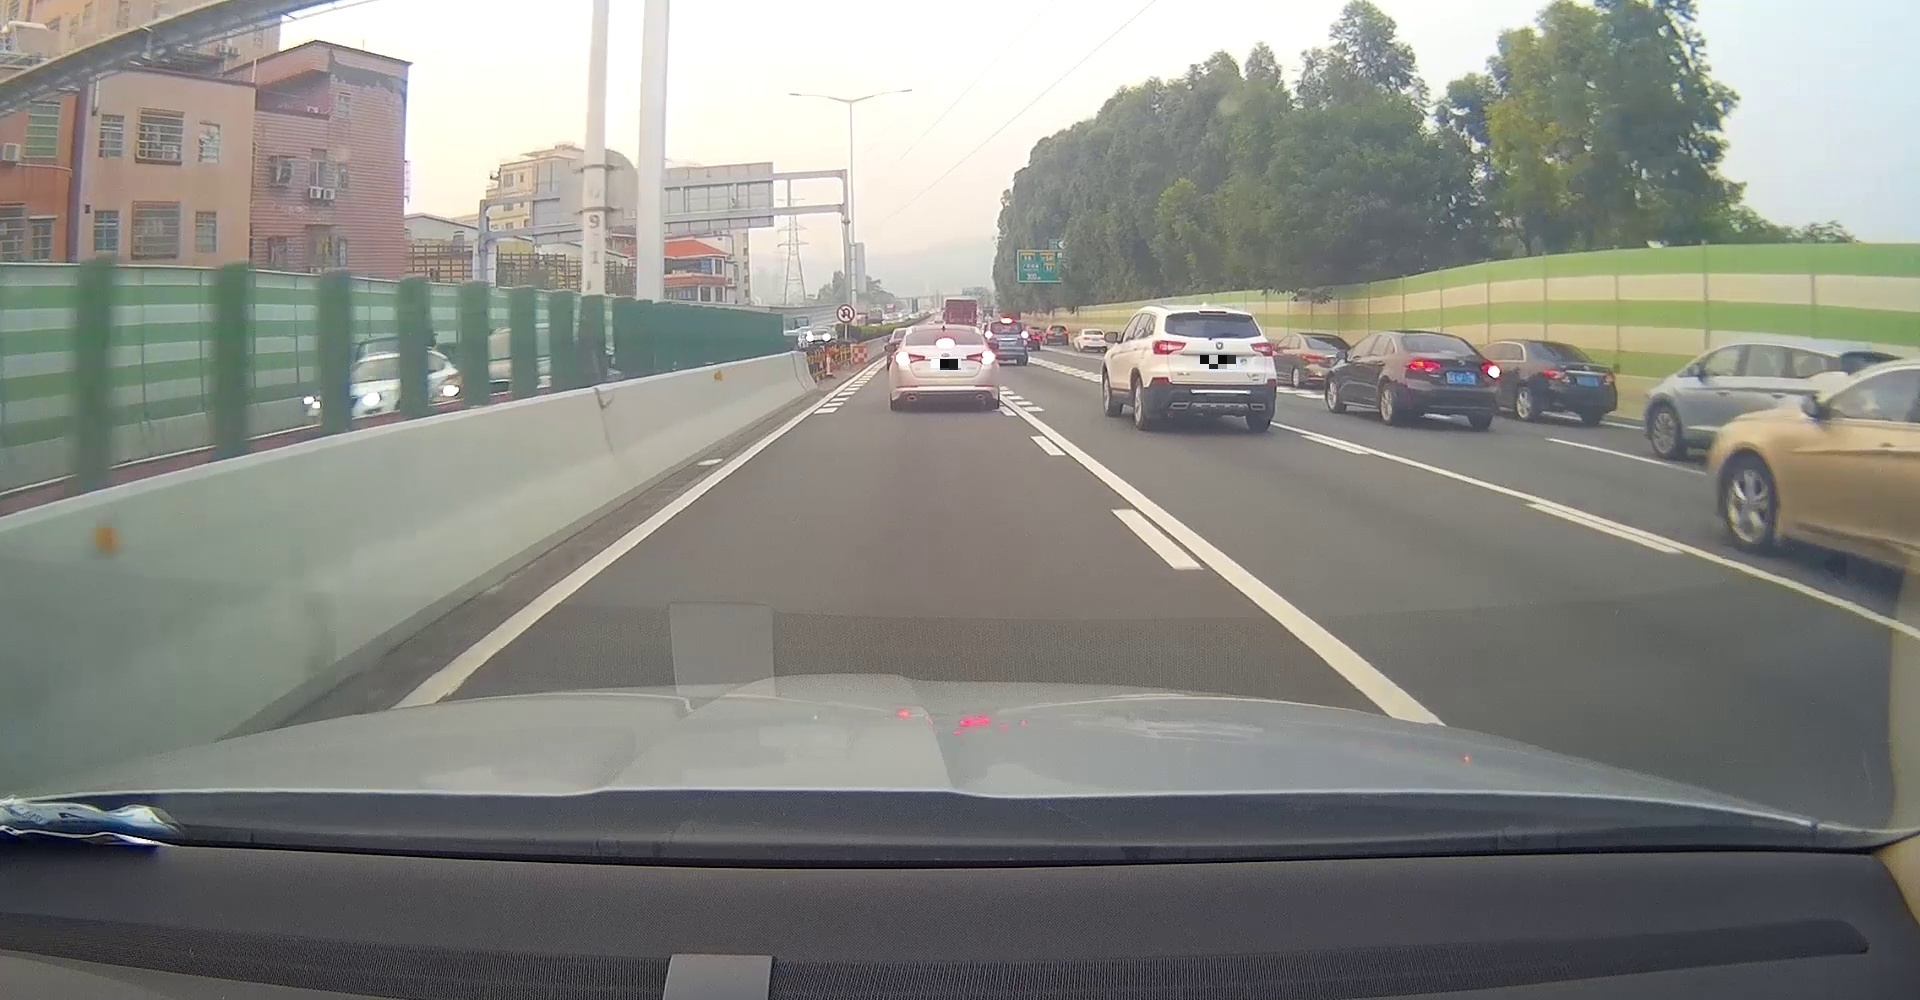L_light: (1150, 339, 1186, 355), (1403, 359, 1440, 372), (894, 352, 924, 365), (1543, 369, 1570, 382)
R_light: (966, 350, 996, 365), (1250, 341, 1274, 357), (1482, 363, 1500, 377), (1603, 372, 1617, 383)
T_light: (1199, 310, 1227, 315), (935, 339, 955, 345), (1440, 349, 1457, 353), (1554, 344, 1567, 348)
day-brake: (888, 324, 1001, 410)
day-no: (1148, 305, 1277, 431), (1526, 339, 1618, 425)
day-right: (1394, 329, 1501, 428)
plate_1: (931, 359, 961, 371)
plate_2: (1200, 355, 1236, 369)
